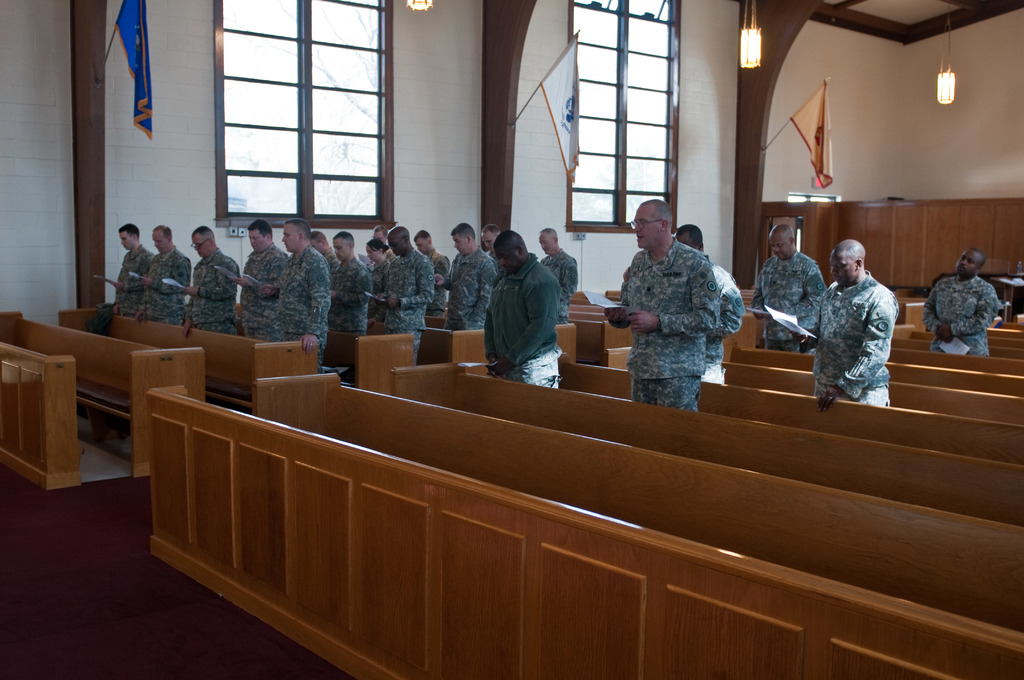Person: (114, 198, 998, 412)
